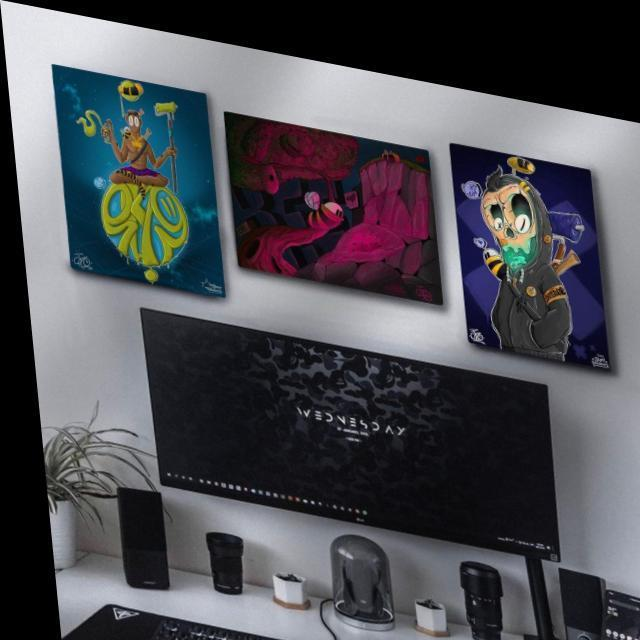-: (222, 103, 436, 287), (50, 62, 217, 288), (449, 127, 604, 346), (68, 247, 85, 268), (462, 309, 480, 328)
